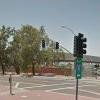Traffic light: (66, 27, 96, 75)
